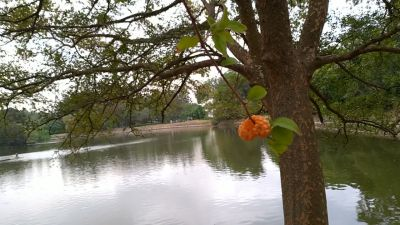eggs: (237, 113, 272, 143)
